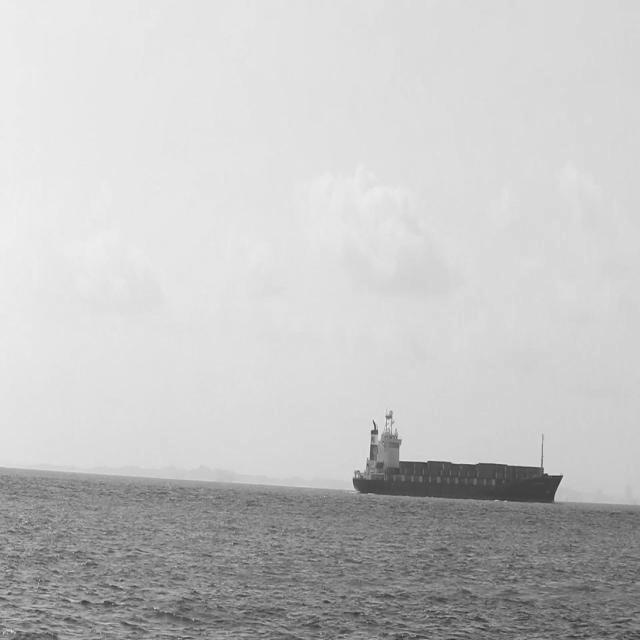ship: (351, 407, 562, 498)
